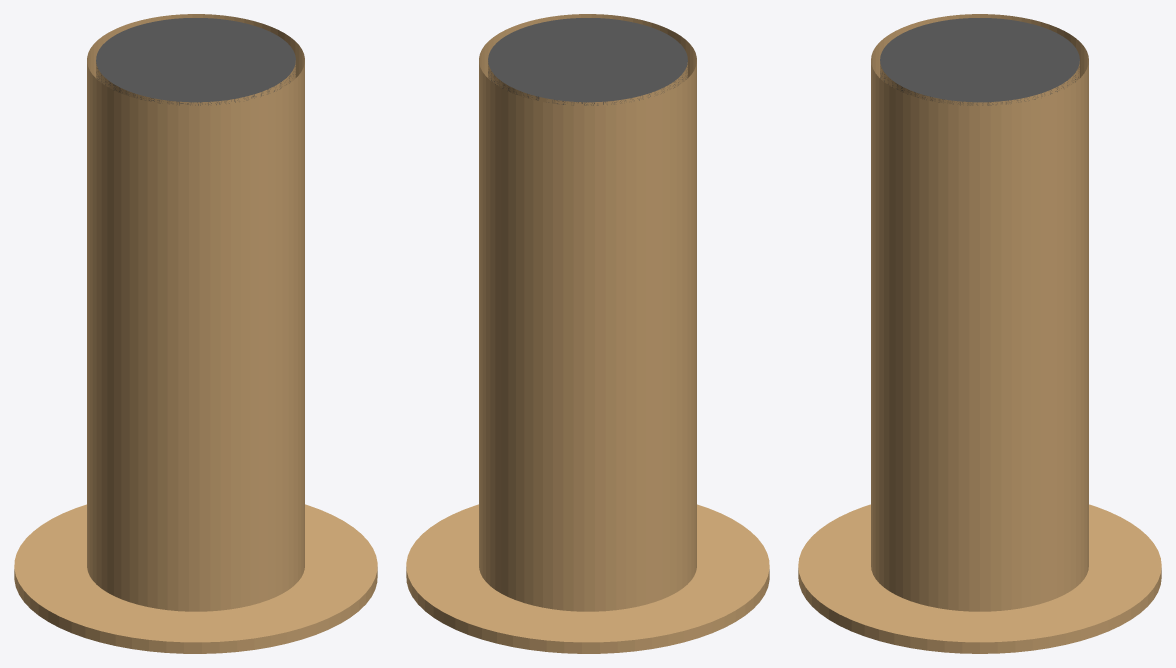
The model's file is board.glb.
The picture shows the model from 3 angles, left to right: view 1: azimuth 30°, elevation 25°; view 2: azimuth 150°, elevation 25°; view 3: azimuth 270°, elevation 25°; orthographic projection.
Visible parts, largest first — view 1: Bare_Via_Tube_0, Unified_Net_1_Island_0, Contact_1; view 2: Bare_Via_Tube_0, Unified_Net_1_Island_0, Contact_1; view 3: Bare_Via_Tube_0, Unified_Net_1_Island_0, Contact_1.
Part boxes in pixels (x1,y1,x2,y2): Bare_Via_Tube_0: [87, 14, 304, 611]; Unified_Net_1_Island_0: [14, 504, 377, 653]; Contact_1: [96, 18, 295, 105]; Bare_Via_Tube_0: [479, 14, 696, 611]; Unified_Net_1_Island_0: [406, 504, 769, 653]; Contact_1: [488, 18, 687, 105]; Bare_Via_Tube_0: [871, 14, 1088, 611]; Unified_Net_1_Island_0: [798, 504, 1161, 653]; Contact_1: [880, 18, 1079, 105].
Size of the model in its own units: 0.001 by 0.00157 by 0.001.
